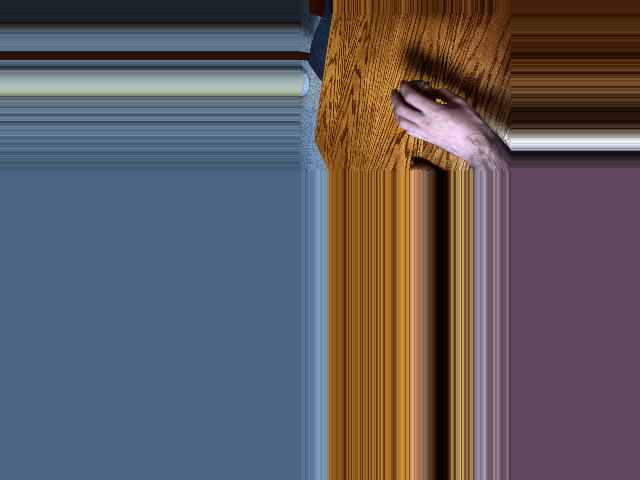onion: (395, 78, 439, 115)
